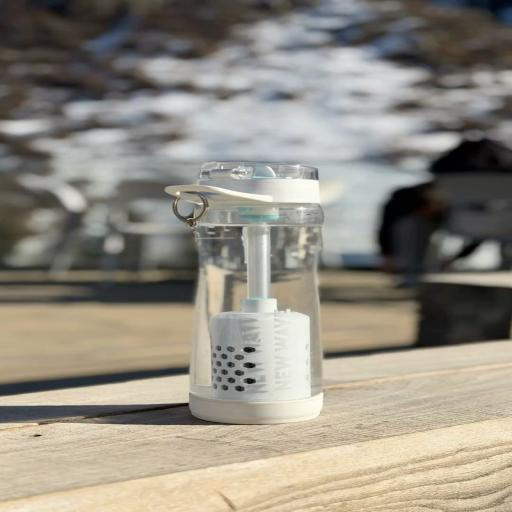bench: (162, 157, 337, 423)
